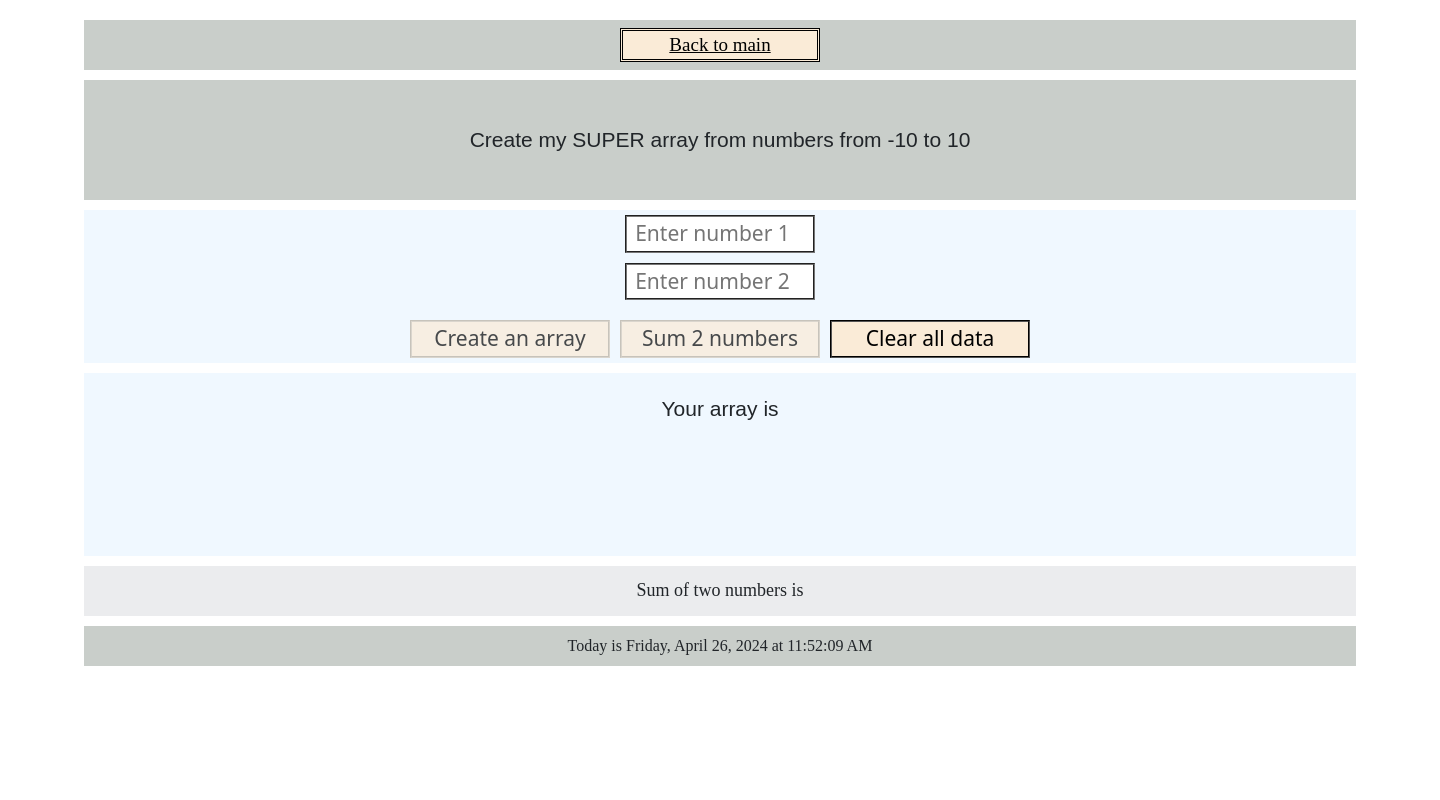
Scenario: check options - validation of one item with blur › input only first item
The width and height of the screenshot is (1440, 800).
Type "4" into the number field with id "num1" at (720, 234), box [625, 215, 815, 253]
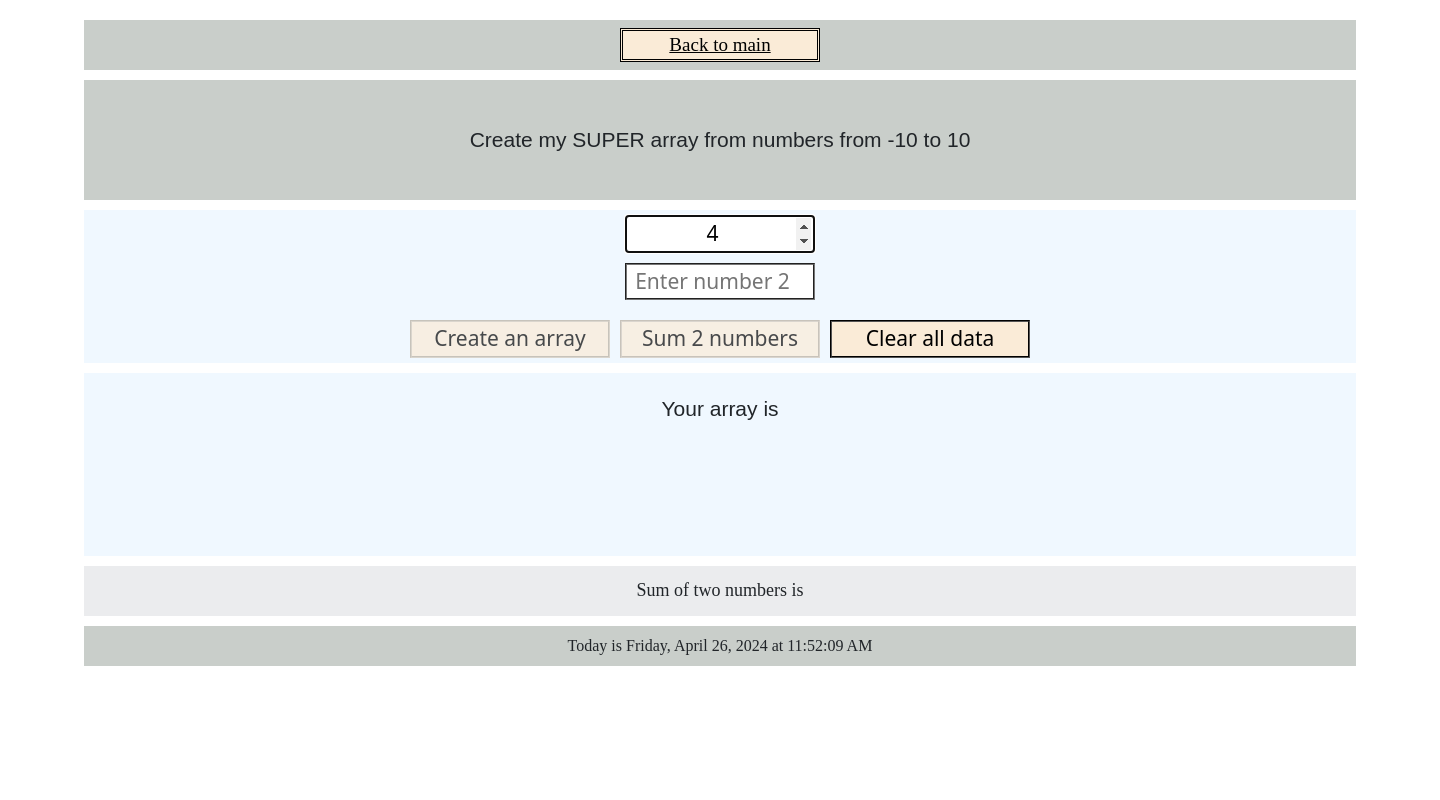
Focus the number field with id "num2" at (720, 282), box [625, 263, 815, 301]
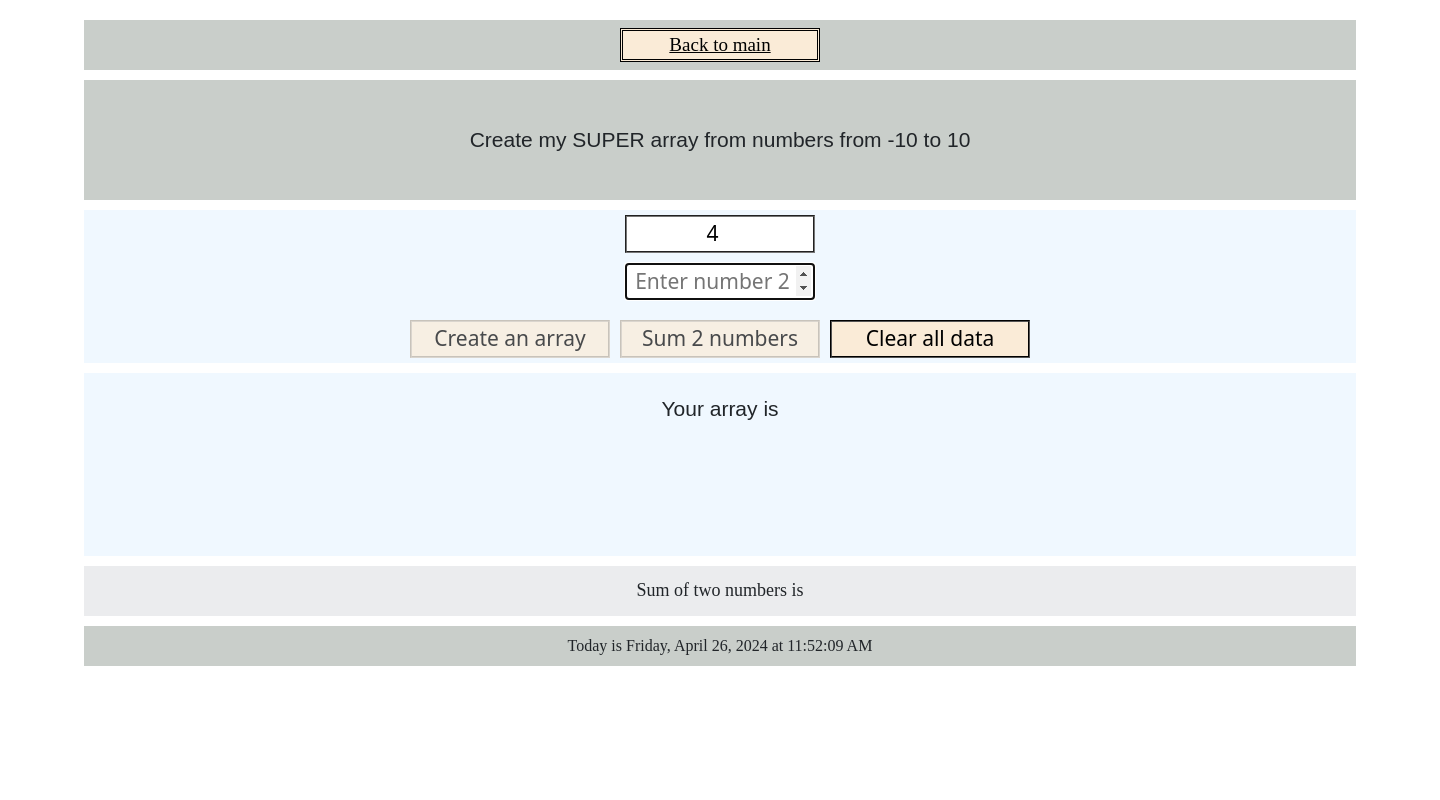
Leave the number field with id "num2", box [625, 263, 815, 301]
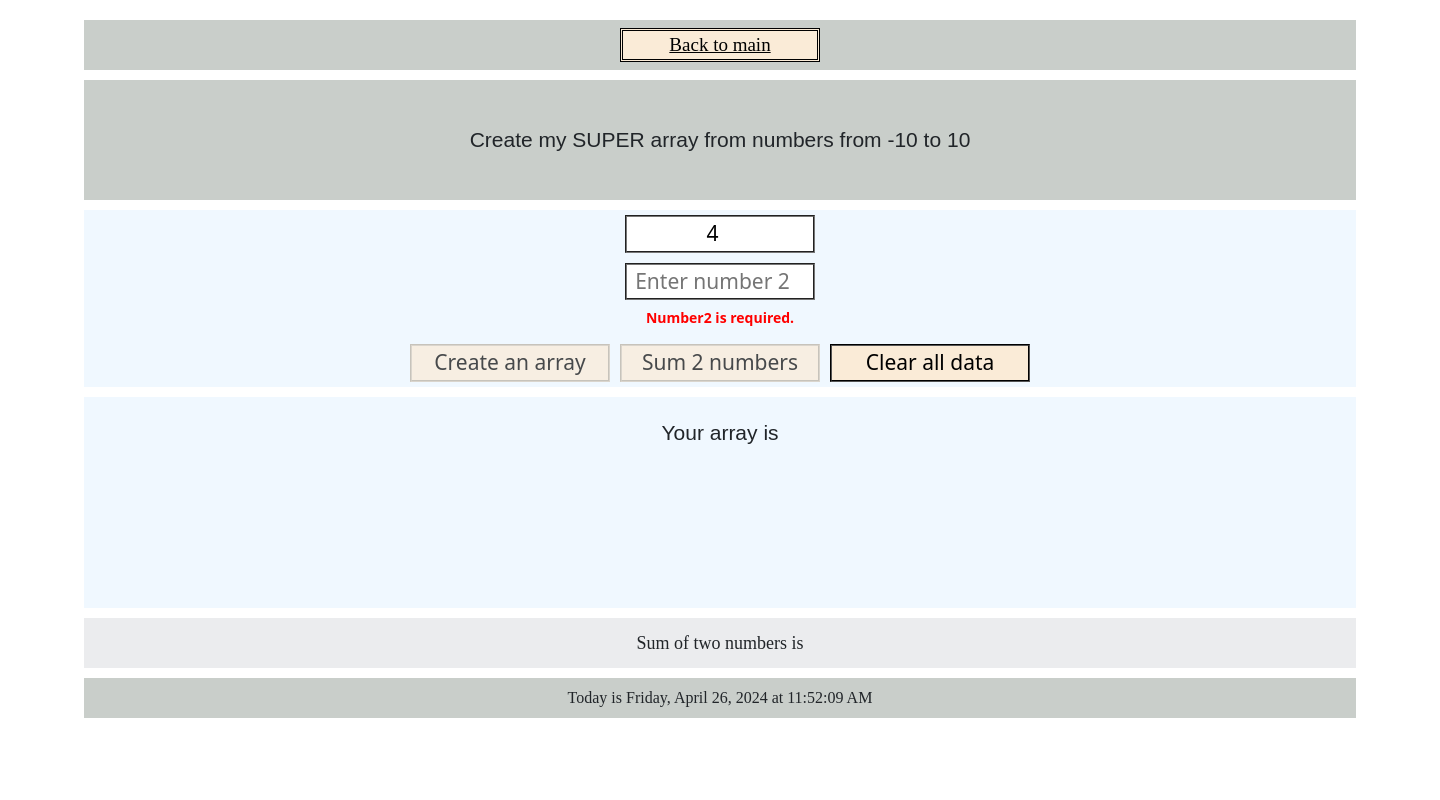
Expected: the button with id "createArray" is disabled, [410, 344, 610, 382]
Expected: the text with class "small2" shows "Number2 is required", [646, 308, 794, 327]
